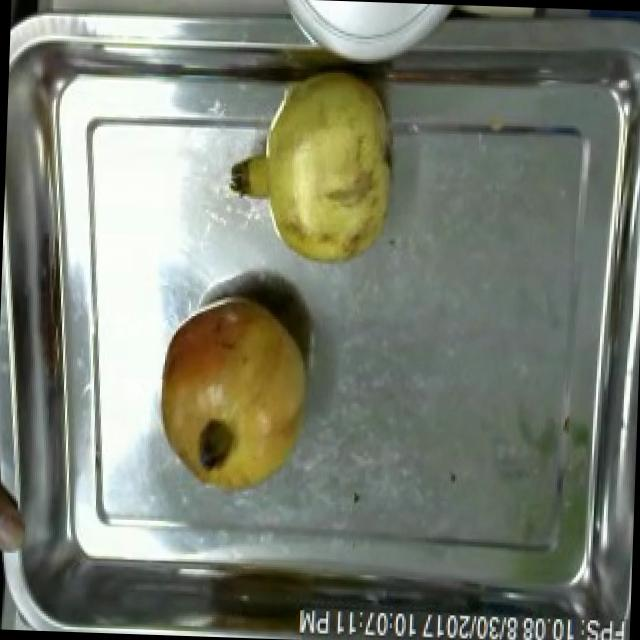fruit: (228, 61, 406, 281), (148, 282, 320, 506), (0, 465, 27, 568)
